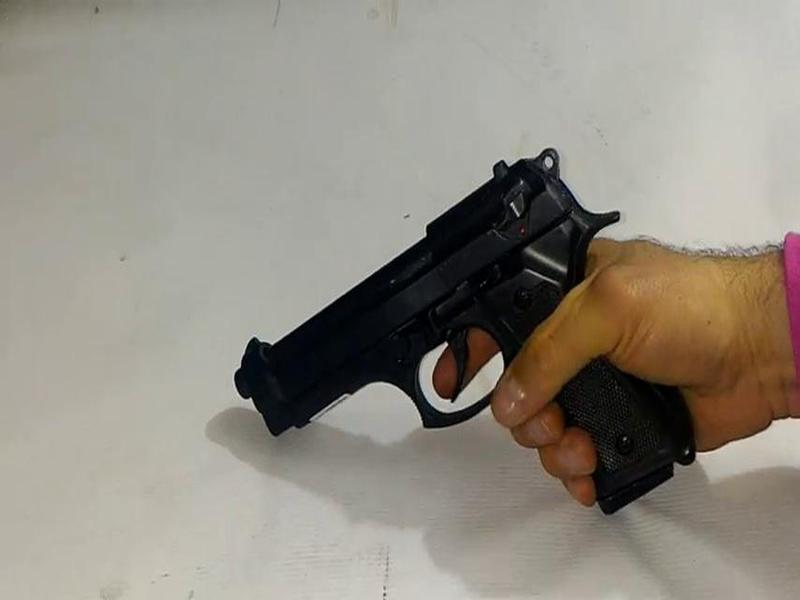Pistola: (222, 138, 707, 520)
